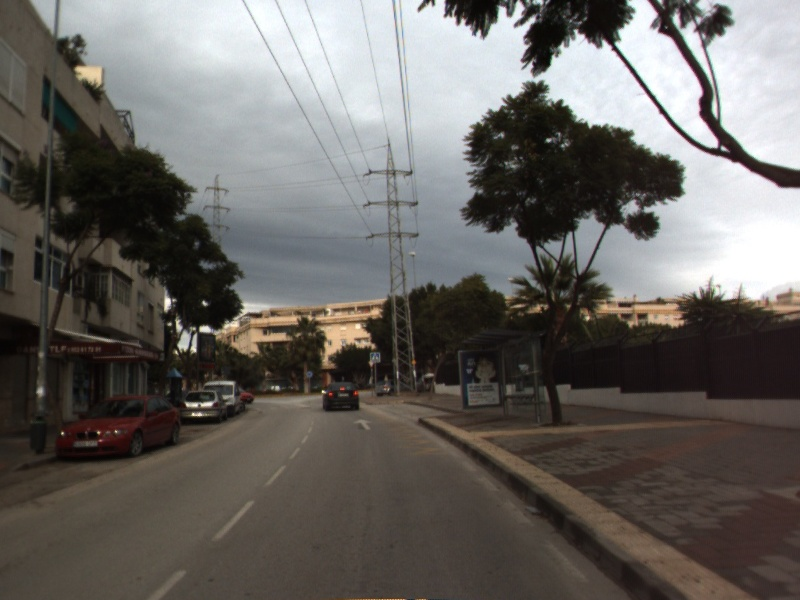STRAIGHT: (351, 417, 375, 432)
